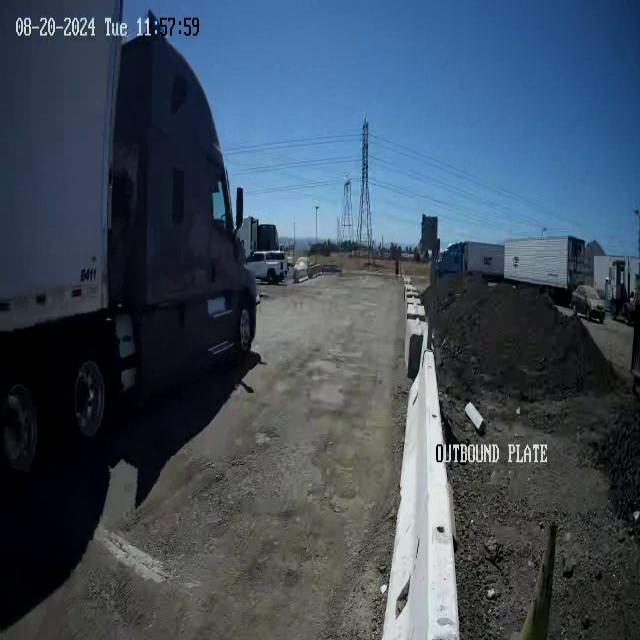TRUCK_CONTAINER: (0, 2, 258, 476)
